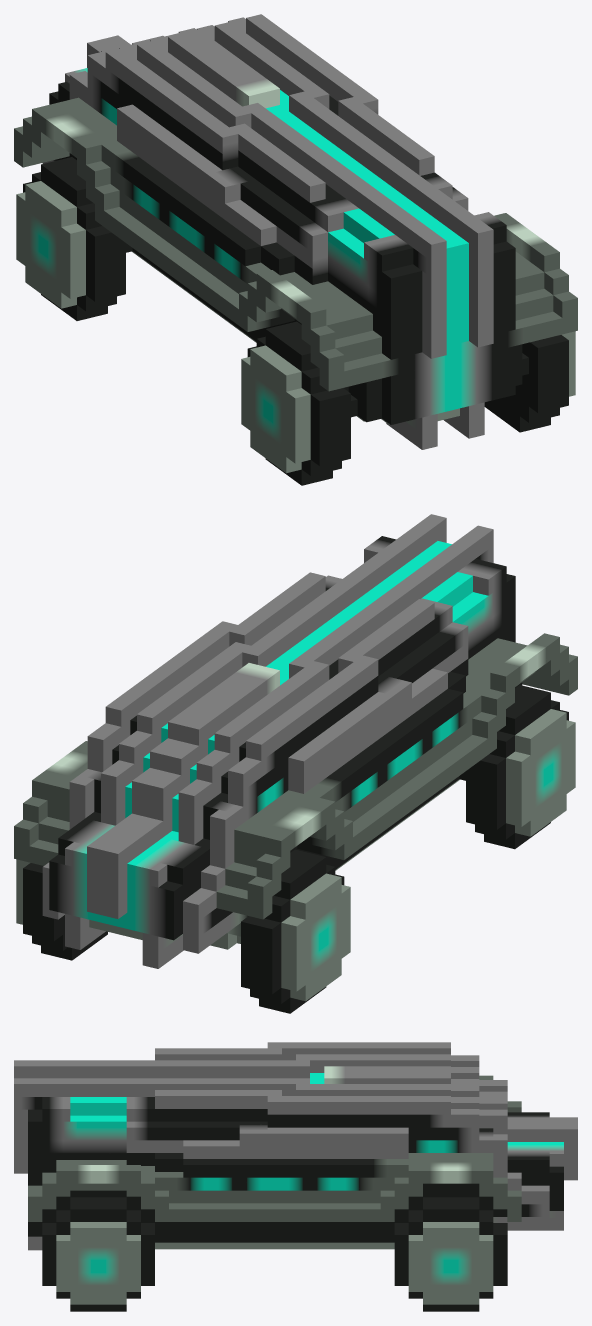
The model's file is Colortest1-4-BombDrone.fbx.
3 views of the same model, one above another, from view 1: azimuth 30°, elevation 25°; view 2: azimuth 150°, elevation 25°; view 3: azimuth 270°, elevation 25° (orthographic). The views are drawn at different scales.
Parts seen in each view (by area): view 1: BombDrone; view 2: BombDrone; view 3: BombDrone.
Part boxes in pixels (bbox=[...]): BombDrone: bbox=[14, 14, 577, 485]; BombDrone: bbox=[14, 514, 577, 1013]; BombDrone: bbox=[14, 1042, 577, 1311].
Bounding box in the file's own units: 18 × 15 × 40.
